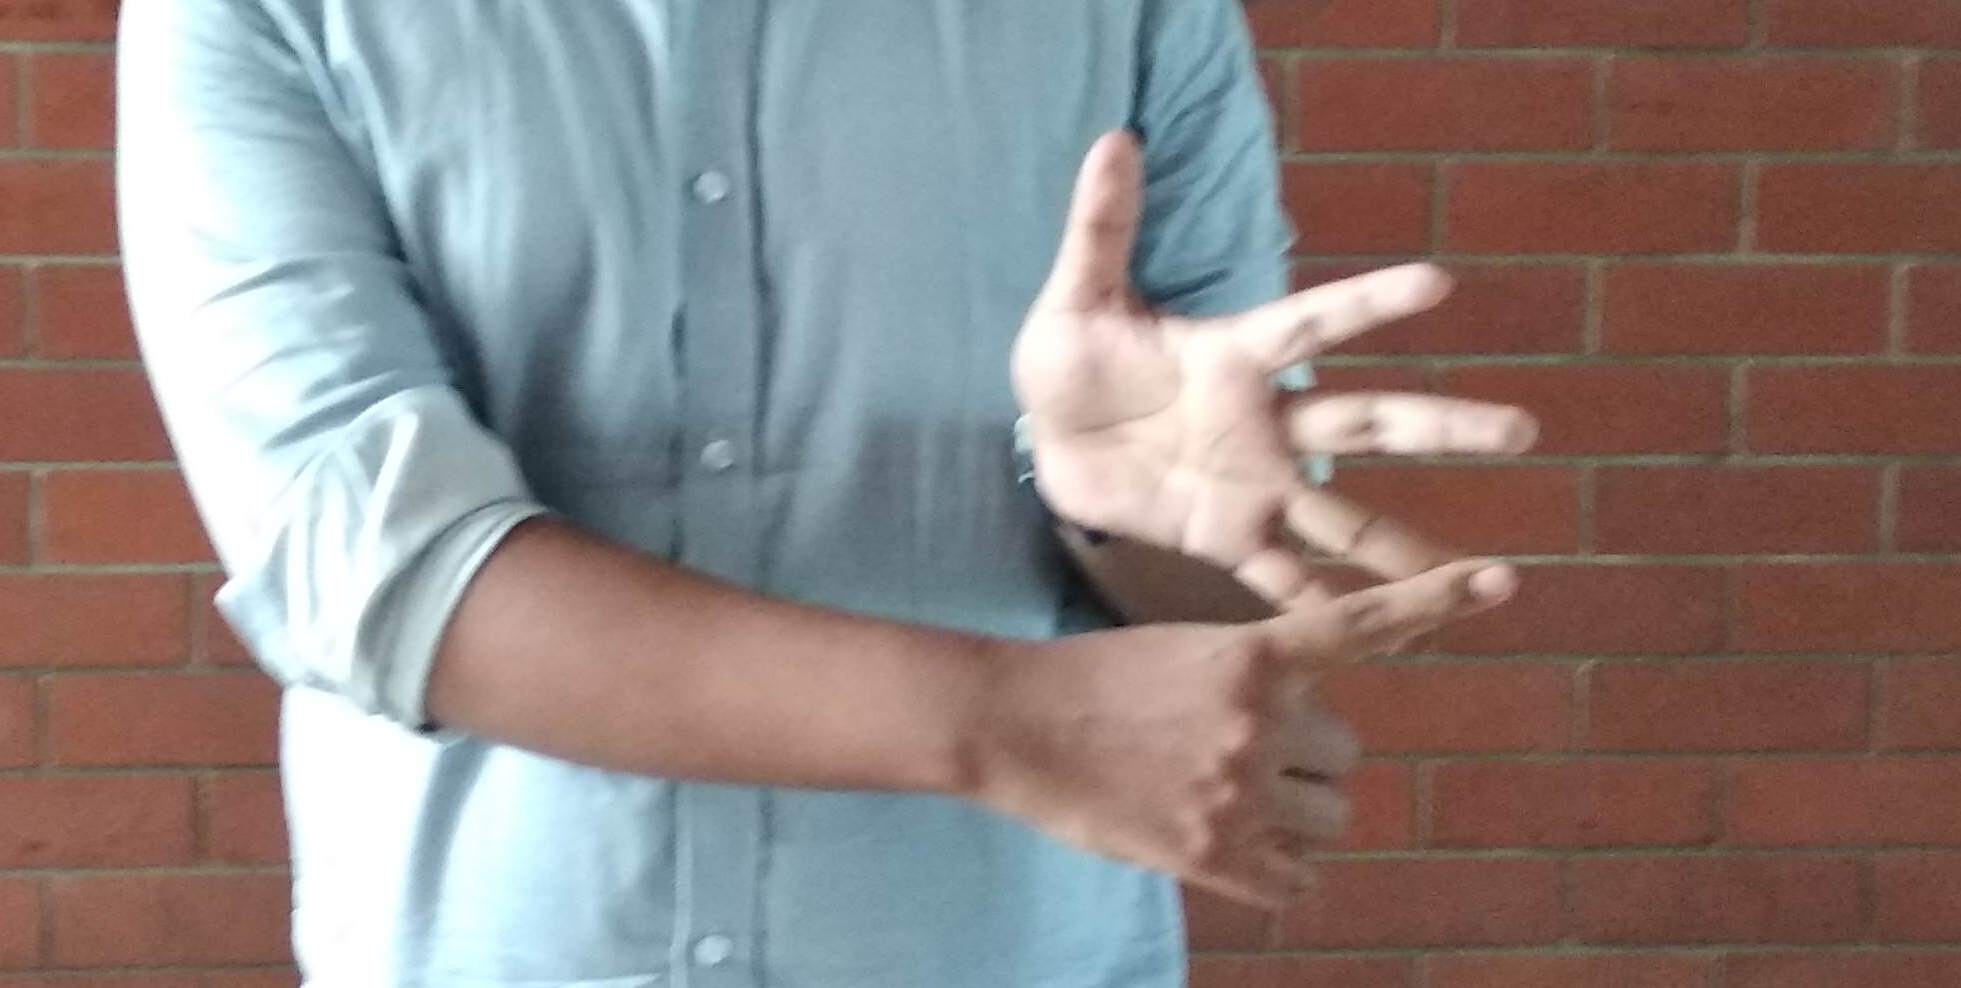e: (1024, 183, 1524, 897)
